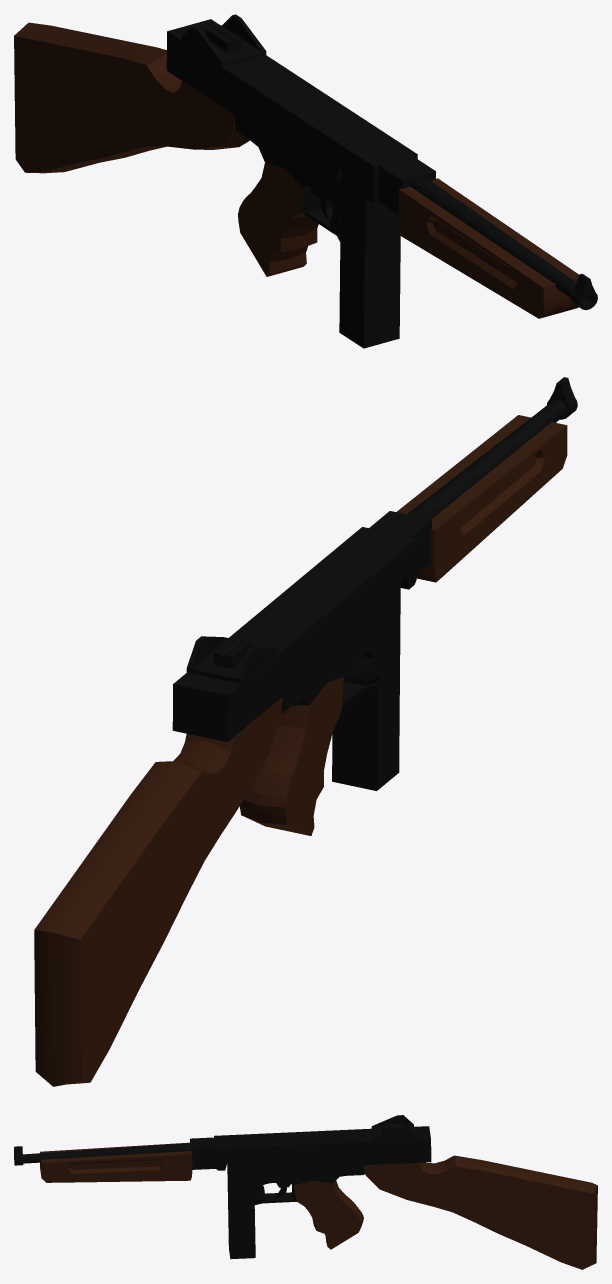
File: gun_1.FBX
3 renders of one model, top to bottom at view 1: azimuth 30°, elevation 25°; view 2: azimuth 150°, elevation 25°; view 3: azimuth 270°, elevation 25°, orthographic. The views are drawn at different scales.
Visible parts, largest first — view 1: gun_1; view 2: gun_1; view 3: gun_1.
Part boxes in pixels (x1=…): gun_1: x1=14, y1=14, x2=597, y2=348; gun_1: x1=34, y1=377, x2=577, y2=1086; gun_1: x1=14, y1=1115, x2=597, y2=1269.
Size of the model in its own units: 9.22 by 82.7 by 23.68.
